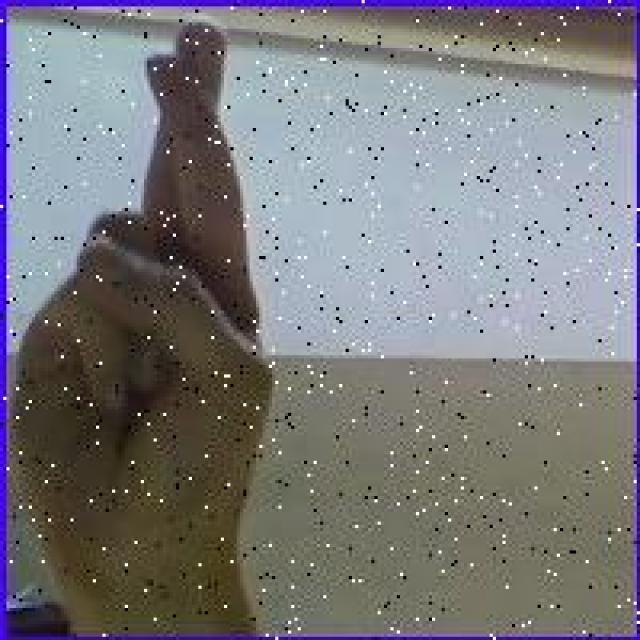R: (11, 16, 283, 589)
